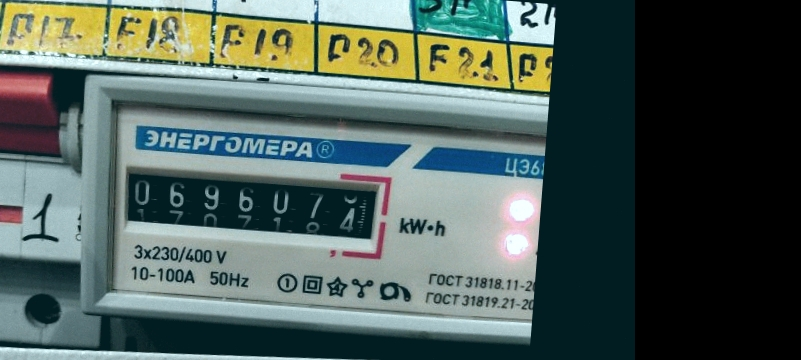0: (269, 184, 290, 216), (131, 176, 151, 206)
4: (337, 204, 355, 234)
6: (234, 183, 255, 214), (166, 178, 187, 207)
7: (305, 189, 324, 220)
9: (200, 182, 219, 211)
screen: (106, 148, 397, 259)
